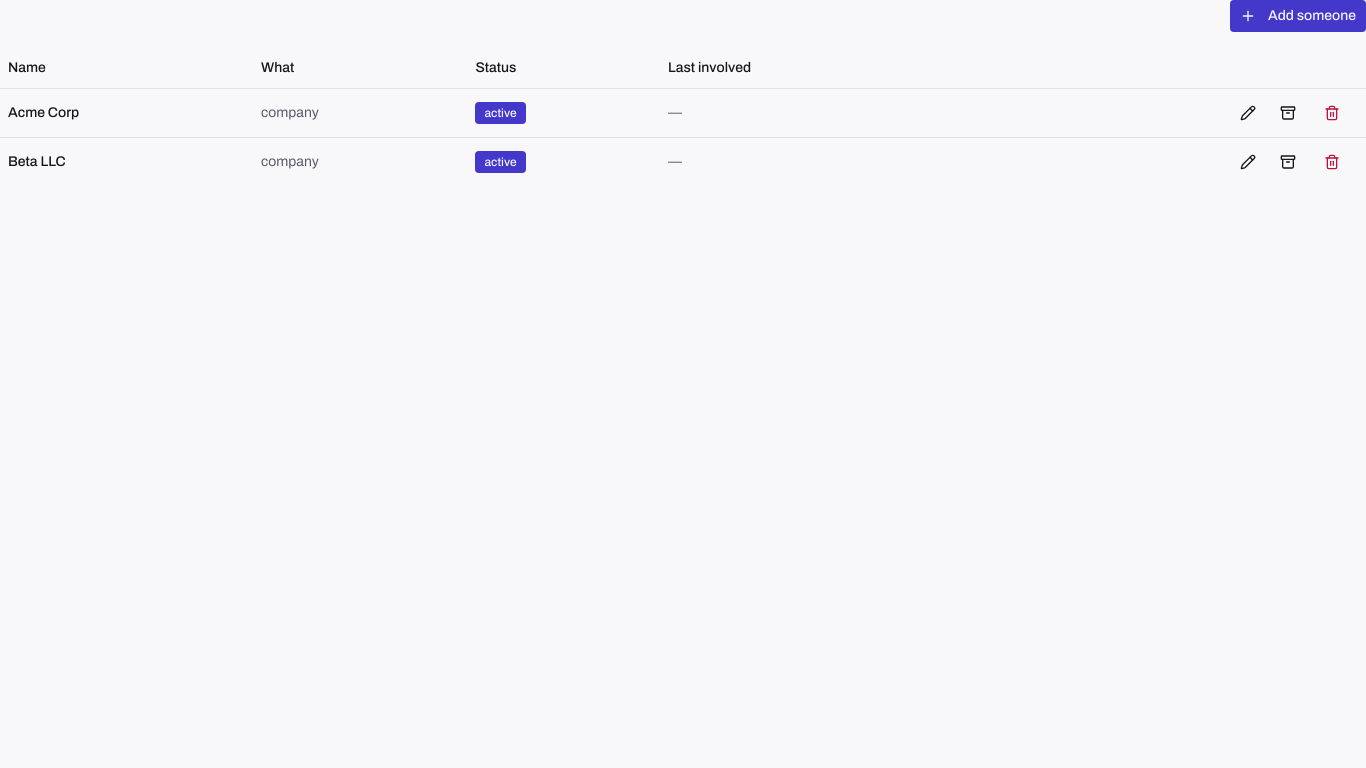
EntitiesView › opens the edit form prefilled with the row that was clicked
Click the button named "Edit Beta LLC": x=1248, y=162 [1230,146,1266,178]
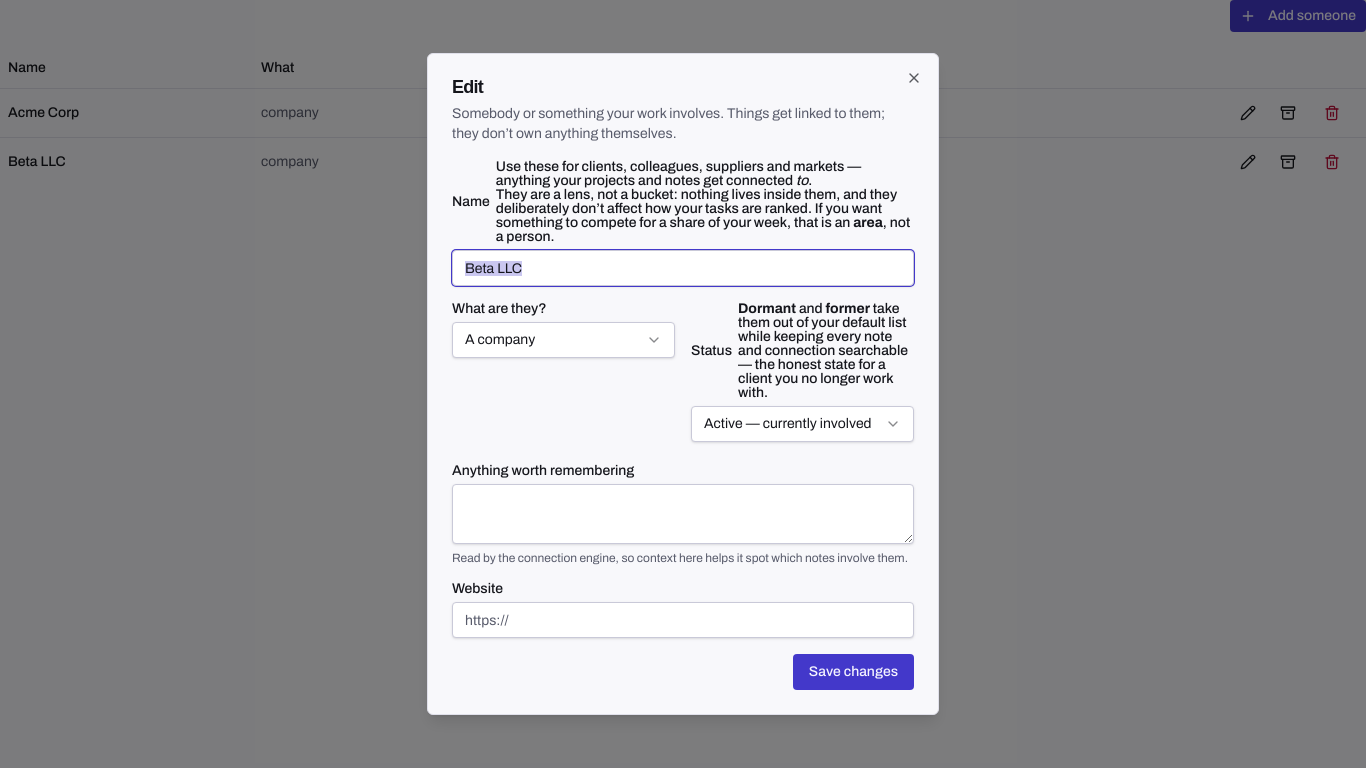
Result: the field labelled "Name" holds "Beta LLC" at [452,250,914,286]
